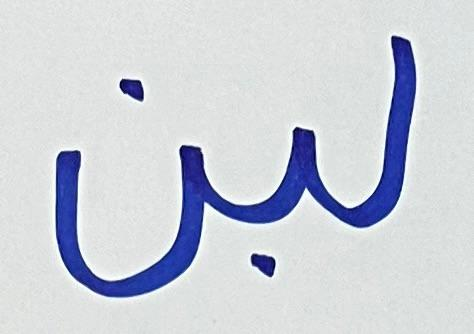beh: (214, 101, 324, 297)
lam: (327, 14, 421, 233)
noon: (32, 67, 209, 300)
